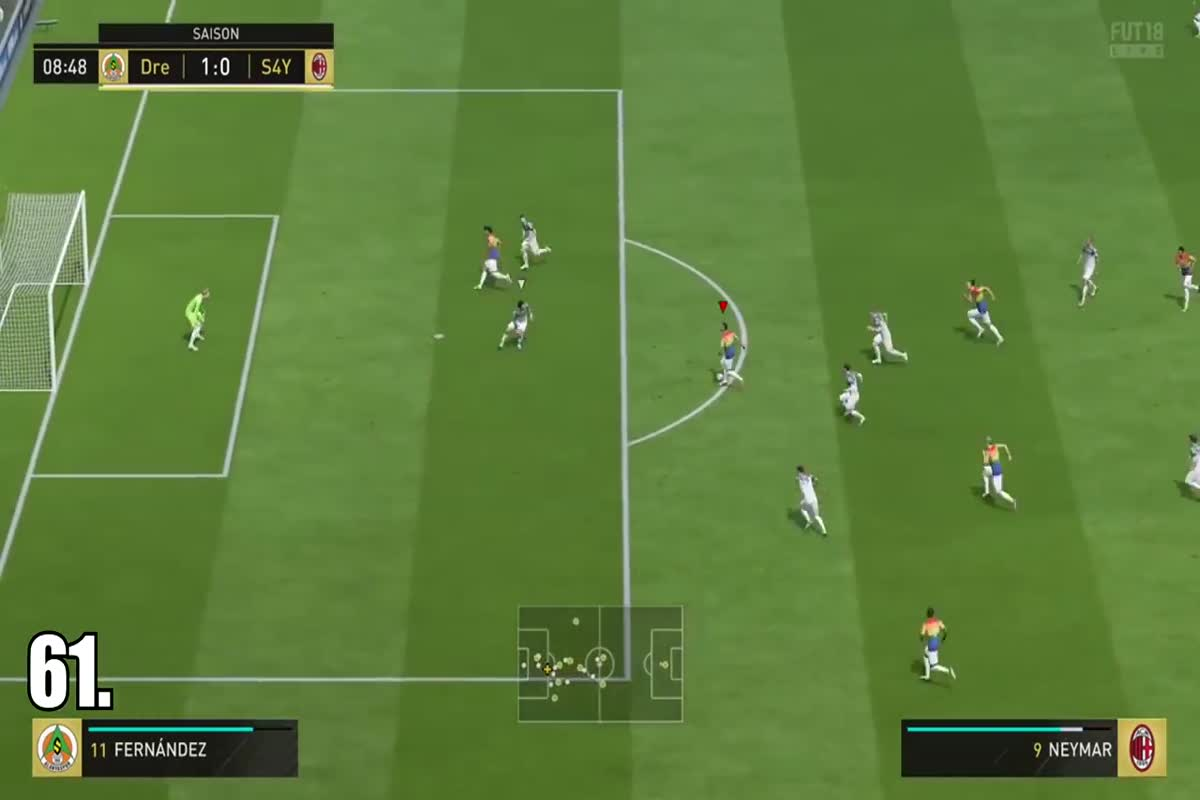ball: (706, 366, 725, 384)
